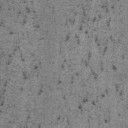oxide scale of temperature system: (56, 4, 126, 100), (0, 80, 43, 128), (78, 82, 125, 124), (0, 0, 45, 41), (5, 45, 42, 92), (57, 114, 71, 125), (38, 89, 44, 96), (104, 119, 108, 124), (117, 114, 121, 116)
